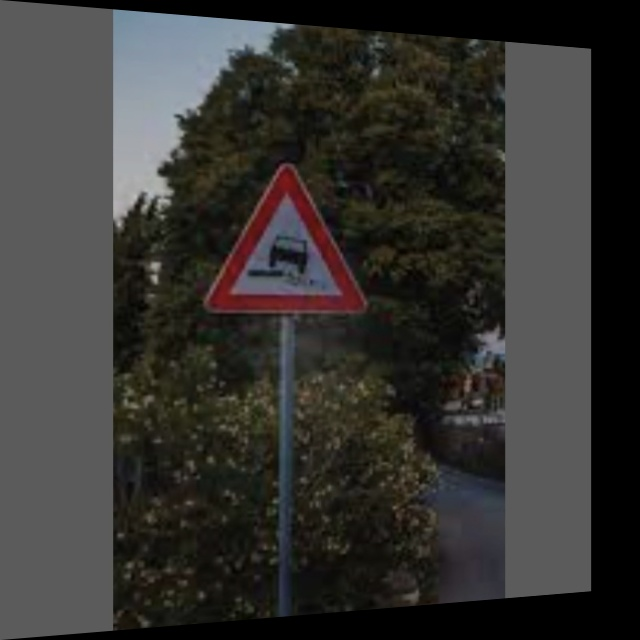Loose_Gravel: (217, 165, 361, 313)
